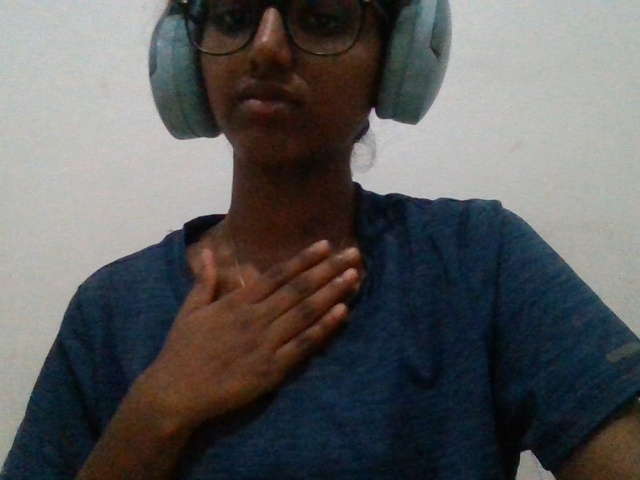Please: (126, 223, 412, 435)
